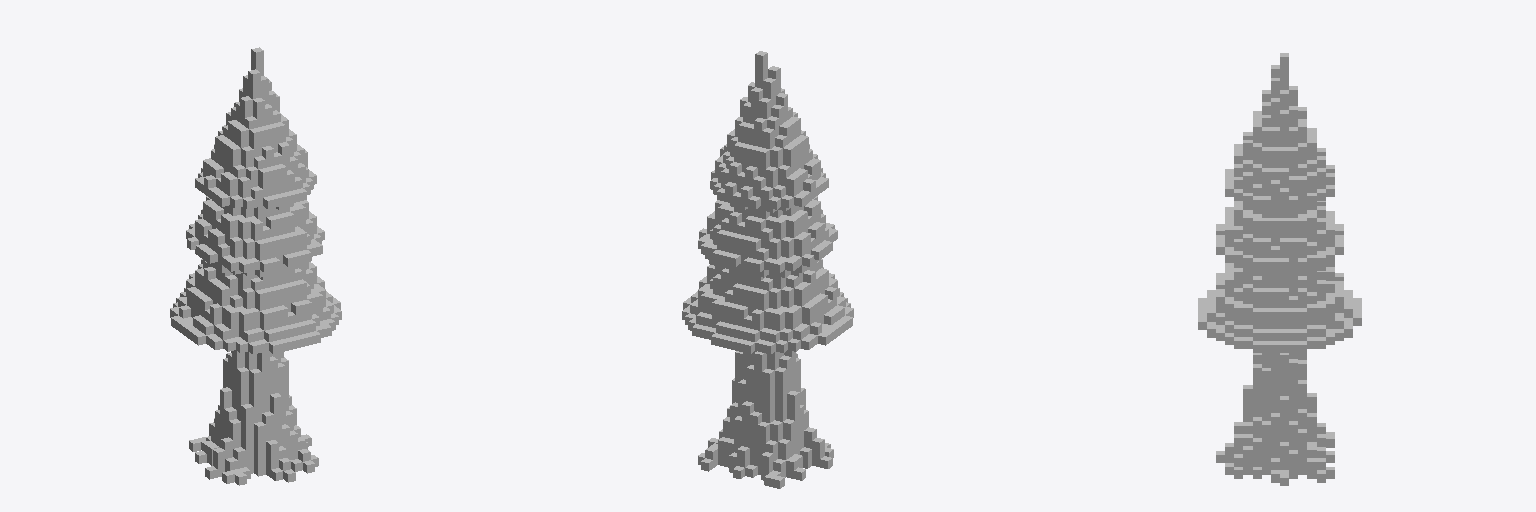
The model's file is Tree_V2.obj.
3 renders of one model, left to right at view 1: azimuth 30°, elevation 25°; view 2: azimuth 150°, elevation 25°; view 3: azimuth 270°, elevation 25°, orthographic.
Visible parts, largest first — view 1: Tree_V2; view 2: Tree_V2; view 3: Tree_V2.
Boxes of the visible parts, box(x1,y1,x2,y2) form: Tree_V2: box(170, 47, 341, 485); Tree_V2: box(682, 51, 853, 488); Tree_V2: box(1198, 53, 1361, 485).
Bounding box in the file's own units: 18 × 49 × 18.